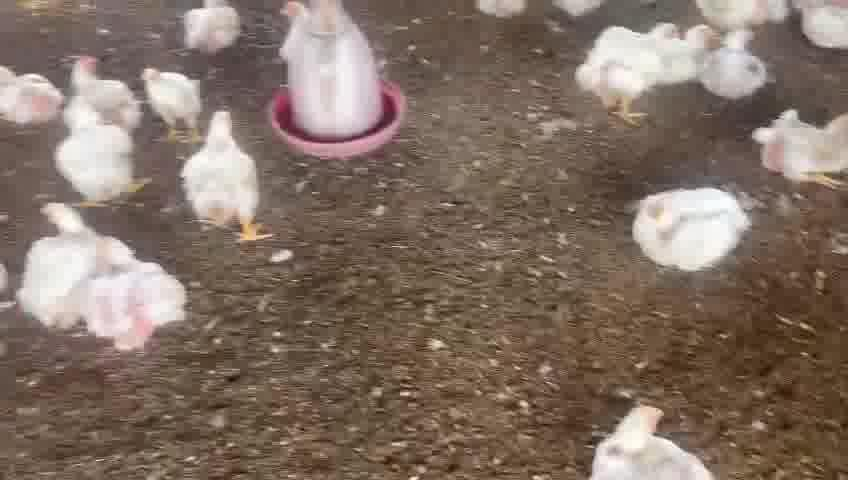AbNormal: (21, 203, 124, 335), (634, 188, 748, 271), (754, 103, 848, 188), (0, 62, 64, 130), (701, 26, 759, 101)
Normal: (182, 107, 269, 244), (575, 20, 679, 125), (54, 99, 140, 212), (138, 63, 207, 143), (66, 54, 137, 128)
